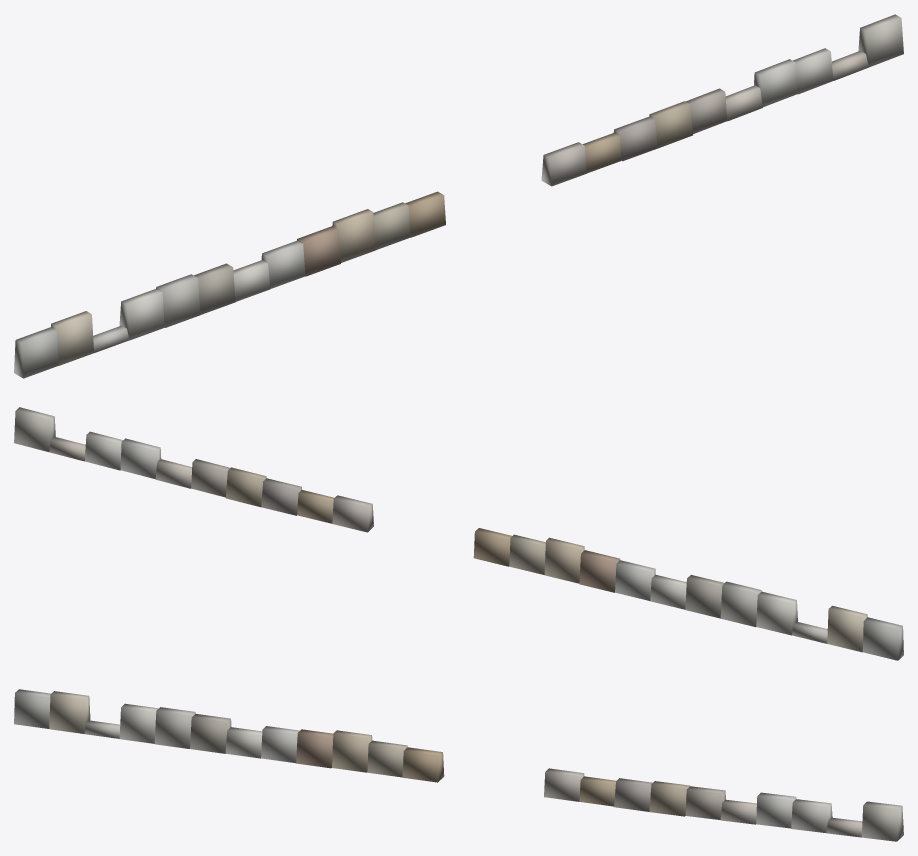
Rendered from farm_26_18_collision.glb.
3 renders of one model, top to bottom at view 1: azimuth 30°, elevation 25°; view 2: azimuth 150°, elevation 25°; view 3: azimuth 330°, elevation 25°, orthographic. The views are drawn at different scales.
Parts seen in each view (by area): view 1: geometry_0; view 2: geometry_0; view 3: geometry_0.
Part boxes in pixels (x1,y1,x2,y2): geometry_0: (14, 14, 903, 378); geometry_0: (14, 407, 903, 660); geometry_0: (14, 689, 903, 841).
Bounding box in the file's own units: 39.4 × 3.67 × 4.65.
